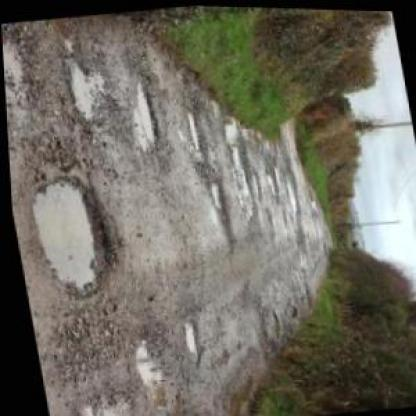pothole: (22, 170, 118, 304), (64, 53, 110, 126), (128, 331, 170, 409), (204, 172, 237, 250), (133, 78, 161, 144), (64, 392, 126, 414), (179, 318, 202, 366), (262, 164, 279, 200), (220, 115, 240, 143)
